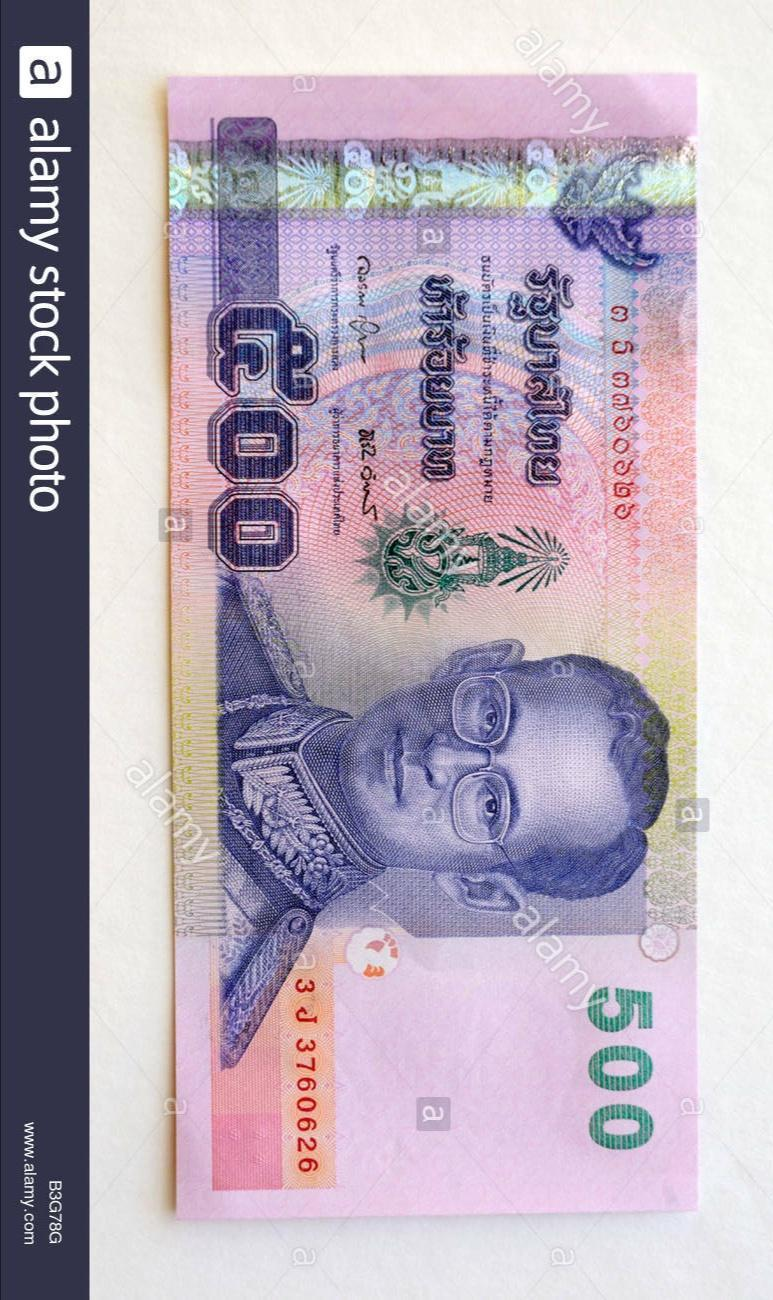500BahtTai: (178, 87, 684, 1219)
